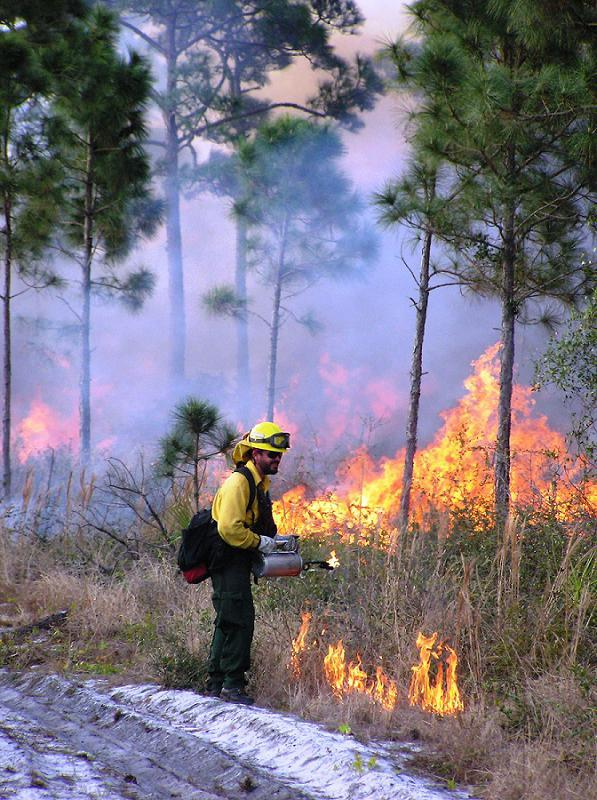Fire: (273, 353, 575, 544), (279, 598, 456, 716), (15, 371, 121, 468)
